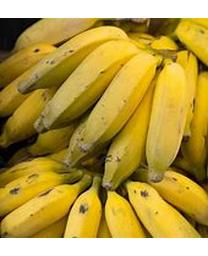banana: (0, 24, 203, 198)
